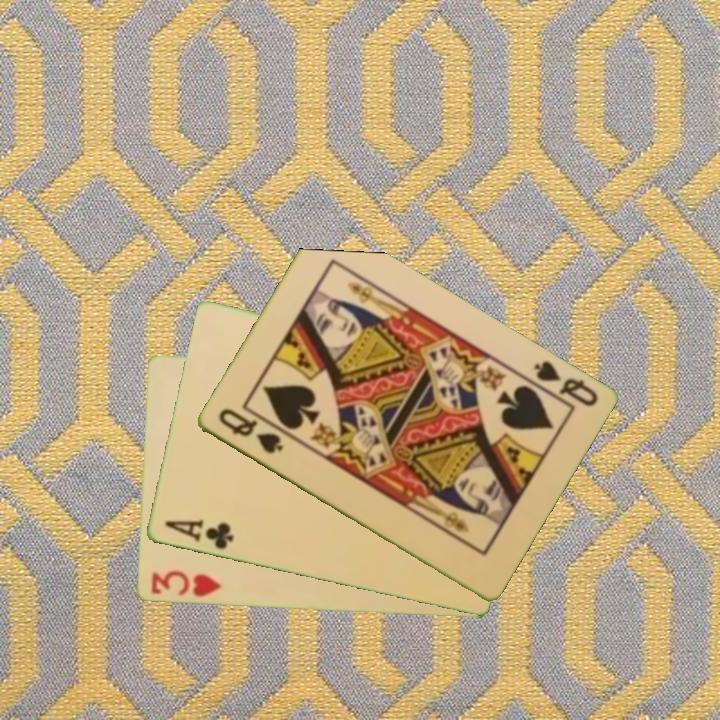3h: (147, 568, 224, 600)
Ac: (161, 516, 236, 553)
Qs: (529, 357, 600, 410), (214, 405, 286, 457)
